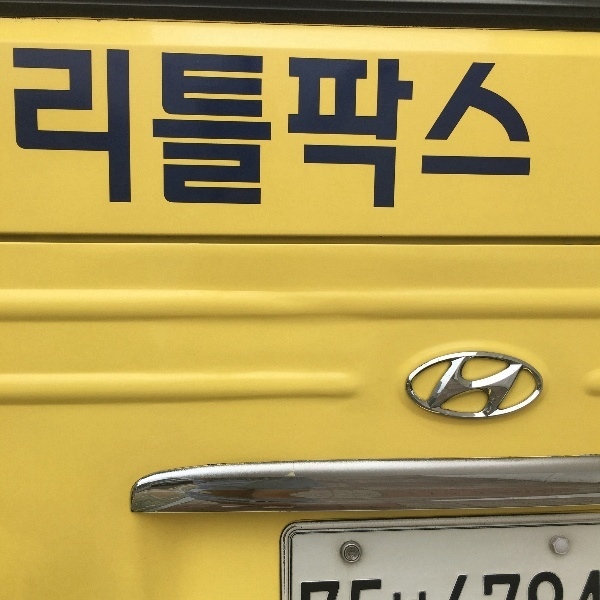text: (17, 45, 32, 215), (33, 45, 48, 215), (49, 45, 64, 215), (65, 45, 80, 215), (81, 45, 96, 215), (97, 45, 112, 215), (113, 45, 128, 215), (129, 45, 144, 215), (145, 45, 160, 215), (161, 45, 176, 215), (177, 45, 192, 215), (193, 45, 208, 215), (209, 45, 224, 215), (225, 45, 240, 215), (241, 45, 256, 215), (257, 45, 272, 215), (273, 45, 288, 215), (289, 45, 304, 215), (305, 45, 320, 215), (321, 45, 336, 215), (337, 45, 352, 215), (353, 45, 368, 215), (369, 45, 384, 215), (385, 45, 400, 215), (401, 45, 416, 215), (417, 45, 432, 215), (433, 45, 448, 215), (449, 45, 464, 215), (465, 45, 480, 215), (481, 45, 496, 215), (497, 45, 512, 215), (513, 45, 528, 215), (529, 45, 536, 215), (465, 353, 480, 421), (481, 353, 496, 421), (497, 353, 512, 421), (513, 353, 526, 421), (11, 45, 16, 215), (452, 353, 464, 421), (305, 567, 320, 600), (321, 567, 336, 600), (337, 567, 352, 600), (353, 567, 368, 600), (369, 567, 384, 600), (385, 567, 400, 600), (401, 567, 416, 600), (417, 567, 432, 600), (433, 567, 448, 600), (449, 567, 464, 600), (465, 567, 480, 600), (481, 567, 496, 600), (497, 567, 512, 600), (513, 567, 528, 600), (529, 567, 544, 600), (545, 567, 560, 600), (561, 567, 576, 600), (577, 567, 592, 600), (593, 567, 599, 600), (299, 567, 304, 600)
